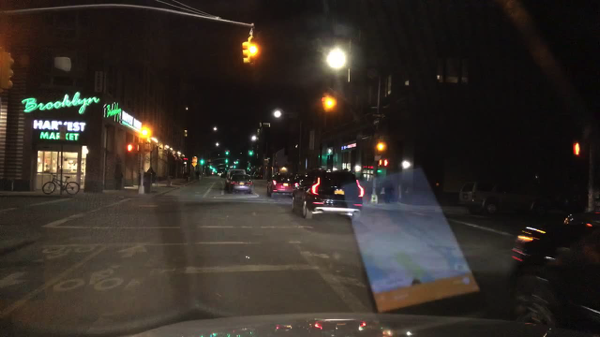bike: (42, 174, 81, 196)
car: (509, 201, 599, 327), (291, 169, 364, 222), (459, 176, 550, 215), (267, 173, 298, 198), (226, 174, 252, 195), (225, 169, 246, 186), (294, 174, 305, 186), (249, 171, 264, 179)
person: (382, 179, 393, 206)
traffic light: (241, 41, 251, 64), (376, 135, 385, 156), (573, 140, 580, 158), (198, 158, 206, 172), (378, 159, 389, 166), (247, 149, 254, 156), (375, 168, 382, 175), (224, 149, 230, 156), (224, 157, 229, 164), (234, 160, 239, 165)
